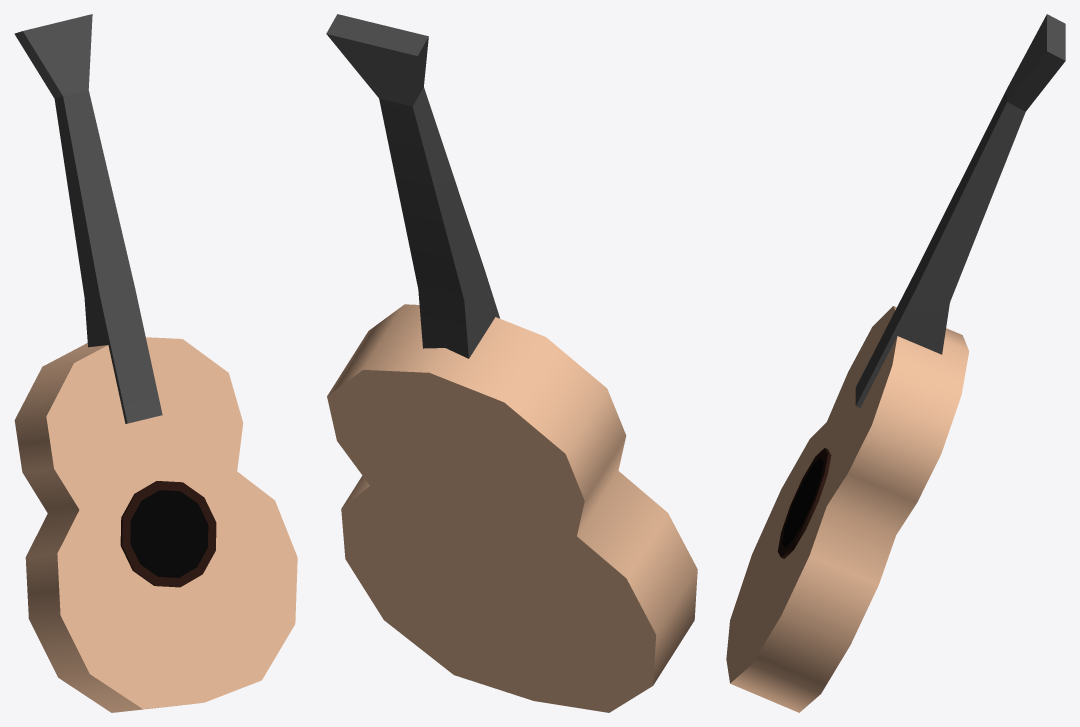
Rendered from guitar.FBX.
3 renders of one model, left to right at view 1: azimuth 30°, elevation 25°; view 2: azimuth 150°, elevation 25°; view 3: azimuth 270°, elevation 25°, orthographic. The views are drawn at different scales.
Parts seen in each view (by area): view 1: guitar; view 2: guitar; view 3: guitar.
Boxes of the visible parts, x1,y1,x2,y2 form: guitar: (14,14,297,712); guitar: (326,14,697,712); guitar: (726,14,1065,712).
Size of the model in its own units: 11.75 by 28.38 by 13.31.
